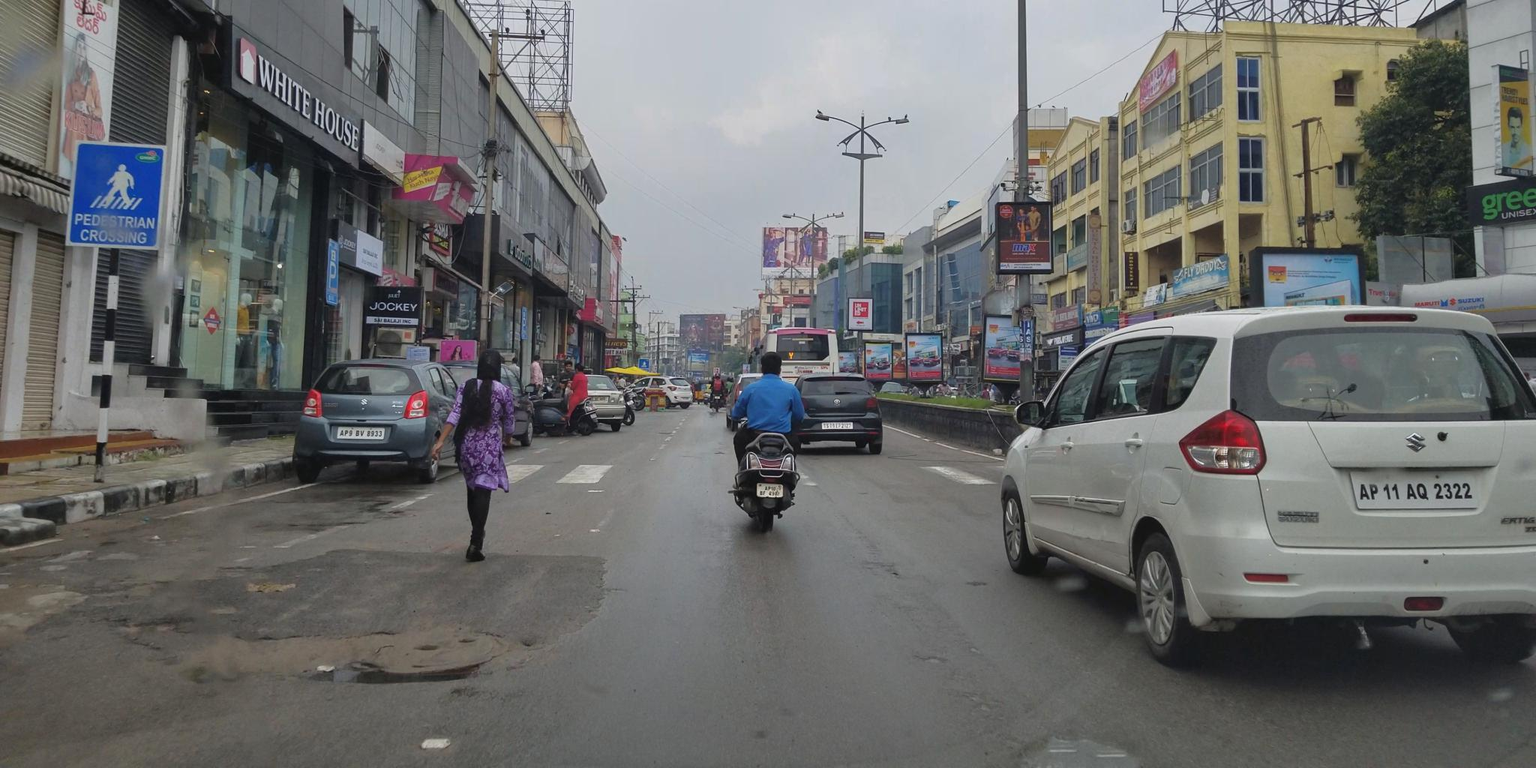streetlight: (806, 98, 868, 149), (863, 106, 916, 144), (773, 202, 821, 232), (805, 205, 853, 234)
